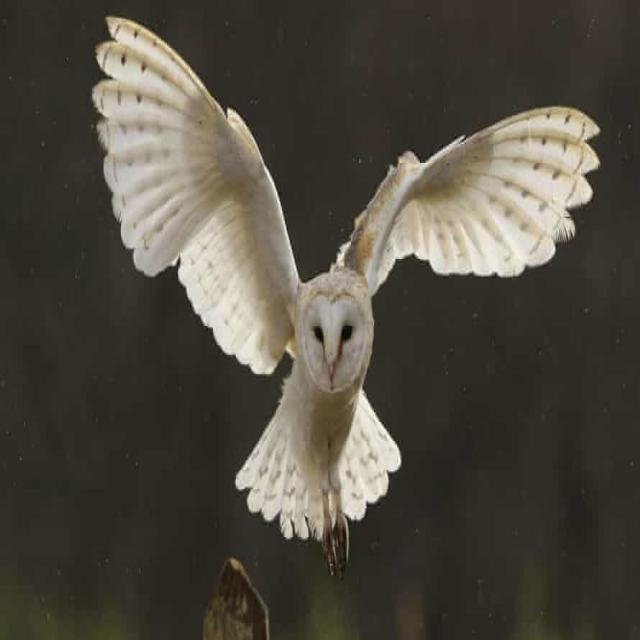owl: (92, 17, 598, 573)
